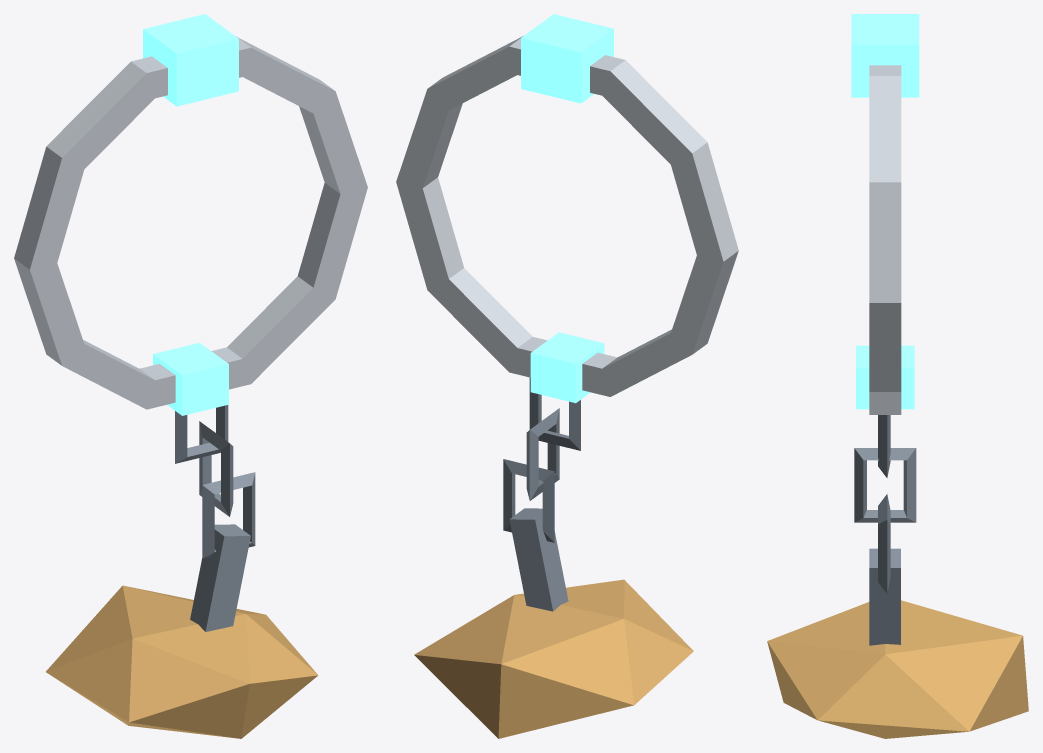
The model's file is Prop_HitchingPost_A.fbx.
3 renders of one model, left to right at view 1: azimuth 30°, elevation 25°; view 2: azimuth 150°, elevation 25°; view 3: azimuth 270°, elevation 25°, orthographic. The views are drawn at different scales.
Visible parts, largest first — view 1: Prop_HitchingPost_A_Ring, Prop_HitchingPost_A_Body; view 2: Prop_HitchingPost_A_Ring, Prop_HitchingPost_A_Body; view 3: Prop_HitchingPost_A_Body, Prop_HitchingPost_A_Ring.
Part boxes in pixels (bbox=[...]): Prop_HitchingPost_A_Ring: bbox=[14, 14, 367, 415]; Prop_HitchingPost_A_Body: bbox=[46, 405, 318, 738]; Prop_HitchingPost_A_Ring: bbox=[396, 14, 738, 403]; Prop_HitchingPost_A_Body: bbox=[414, 377, 693, 738]; Prop_HitchingPost_A_Body: bbox=[767, 415, 1028, 738]; Prop_HitchingPost_A_Ring: bbox=[851, 14, 919, 414].
Bounding box in the file's own units: 0.8707 × 1.66 × 0.5792.
